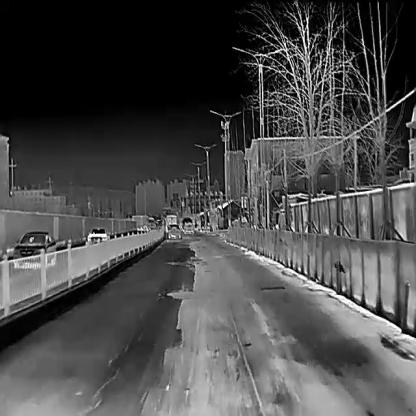car: (12, 231, 56, 266), (87, 228, 109, 242), (168, 226, 180, 237), (185, 223, 193, 232)
truck: (165, 214, 176, 232)
